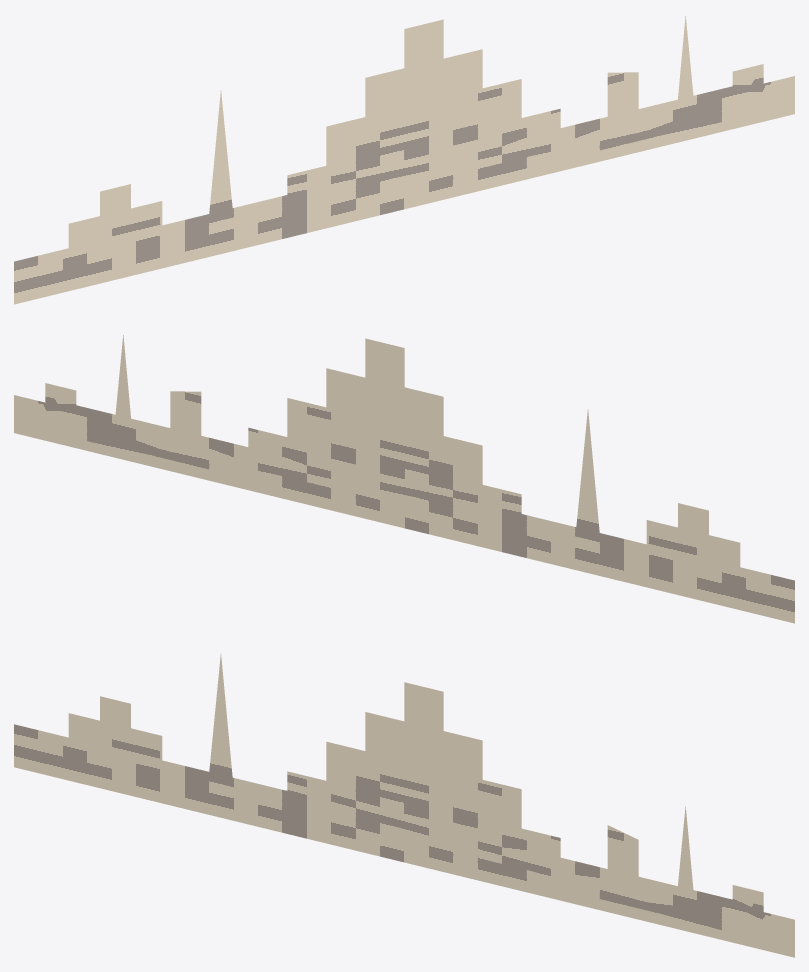
File: land.skyline.glb
3 renders of one model, top to bottom at view 1: azimuth 30°, elevation 25°; view 2: azimuth 150°, elevation 25°; view 3: azimuth 330°, elevation 25°, orthographic.
Visible parts, largest first — view 1: kit_shell_skyline; view 2: kit_shell_skyline; view 3: kit_shell_skyline.
Part boxes in pixels (bbox=[...]): kit_shell_skyline: bbox=[14, 16, 794, 304]; kit_shell_skyline: bbox=[14, 335, 794, 623]; kit_shell_skyline: bbox=[14, 653, 794, 957].
Bounding box in the file's own units: 60 × 13.24 × 0.
1 material, 1 textured.
